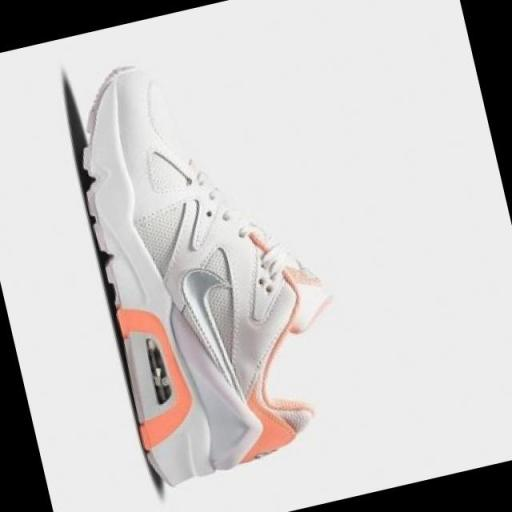Nike: (171, 256, 256, 418)
